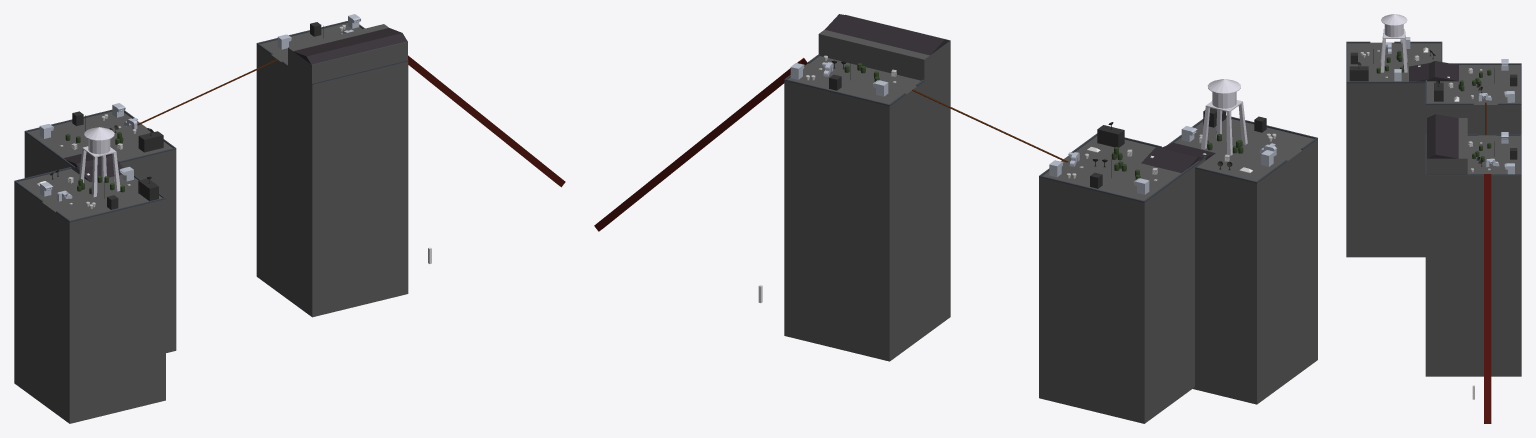
The model's file is rooftops2.glb.
The picture shows the model from 3 angles, left to right: view 1: azimuth 30°, elevation 25°; view 2: azimuth 150°, elevation 25°; view 3: azimuth 270°, elevation 25°; orthographic projection. The views are drawn at different scales.
Visible parts, largest first — view 1: Cube -col; view 2: Cube -col; view 3: Cube -col.
Part boxes in pixels (bbox=[...]): Cube -col: bbox=[14, 14, 565, 423]; Cube -col: bbox=[594, 14, 1317, 423]; Cube -col: bbox=[1346, 14, 1521, 423].
Size of the model in its own units: 239 by 104 by 73.15.
Materials: 21 (21 with a texture image).
